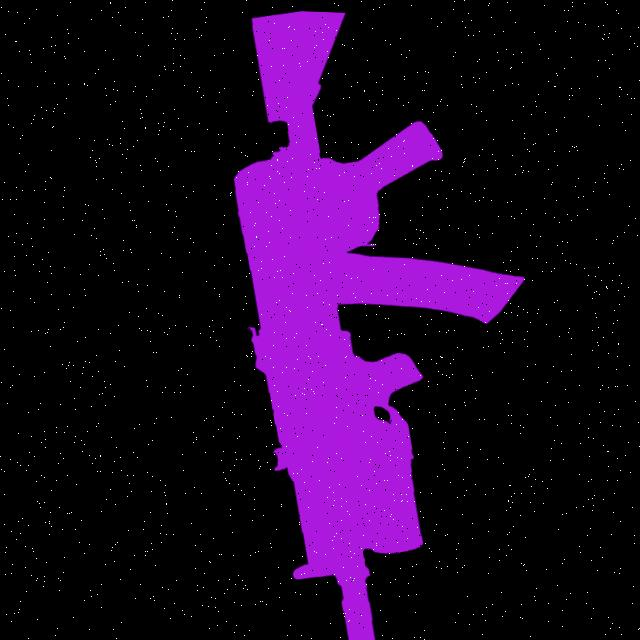firearm: (190, 6, 583, 640)
